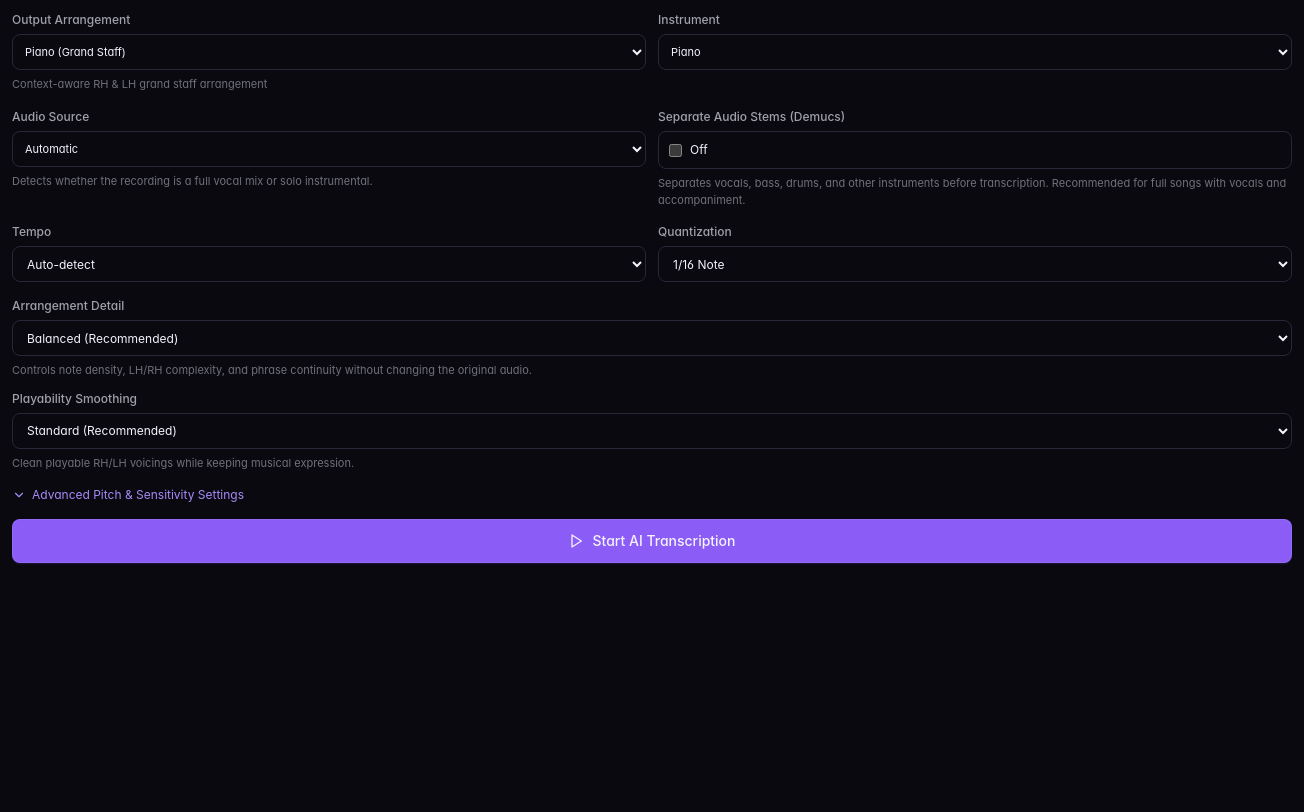
Lead Melody Vocal Isolation & Settings UI › respects explicit Solo Piano / Instrumental source and user quantization choices in Lead Melody
The width and height of the screenshot is (1304, 812).
# User manually picks eighth quantization first
Select "1/8 Note" in the dropdown labelled "Quantization". click: (975, 264)
box: [658,246,1292,282]
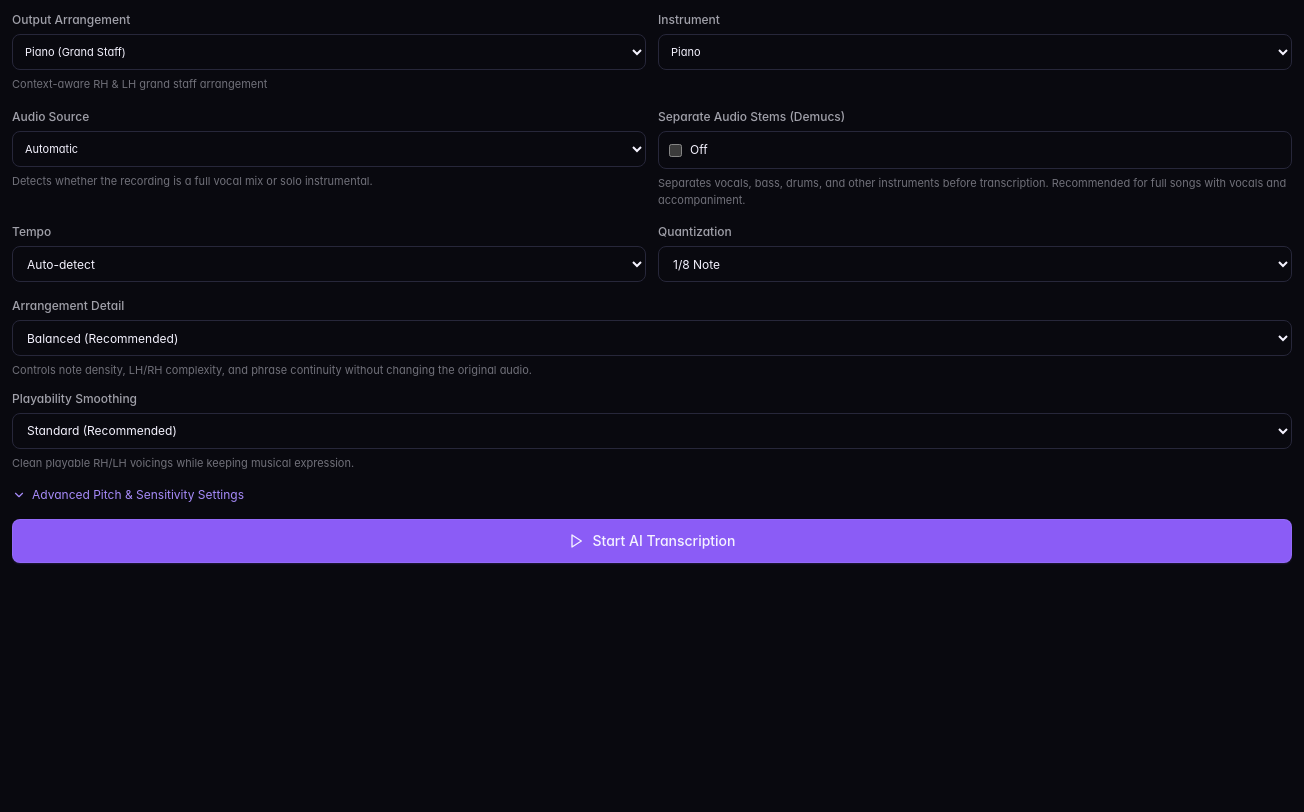
Select "Lead Melody" in the dropdown labelled "Output Arrangement". click: (329, 52)
box: [12,34,646,70]
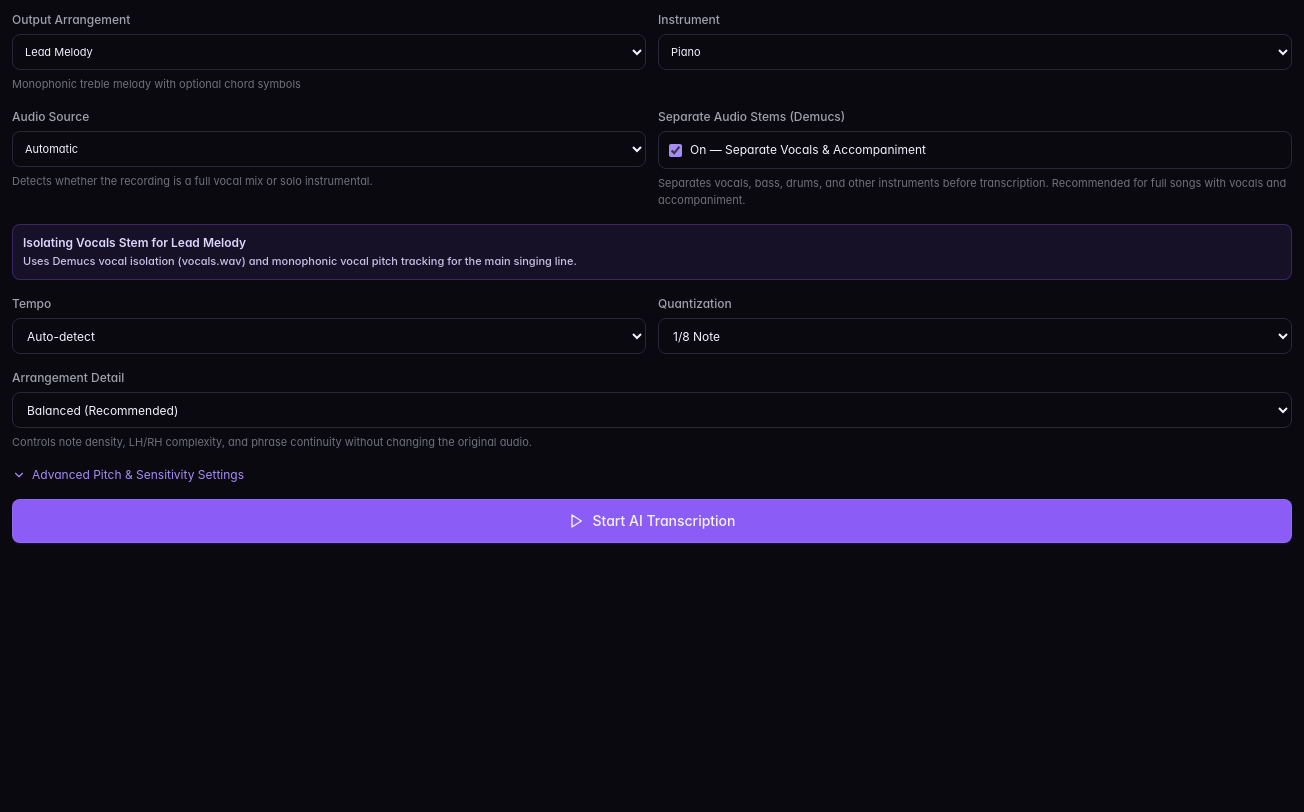
expect the checkbox labelled "Separate Audio Stems (Demucs)" is checked: met, box [669,144,682,156]
# Explicitly switch to Solo Piano / Instrumental and turn Demucs off
Select "Solo Piano / Instrumental" in the dropdown labelled "Audio Source". click: (329, 148)
box: [12,130,646,166]
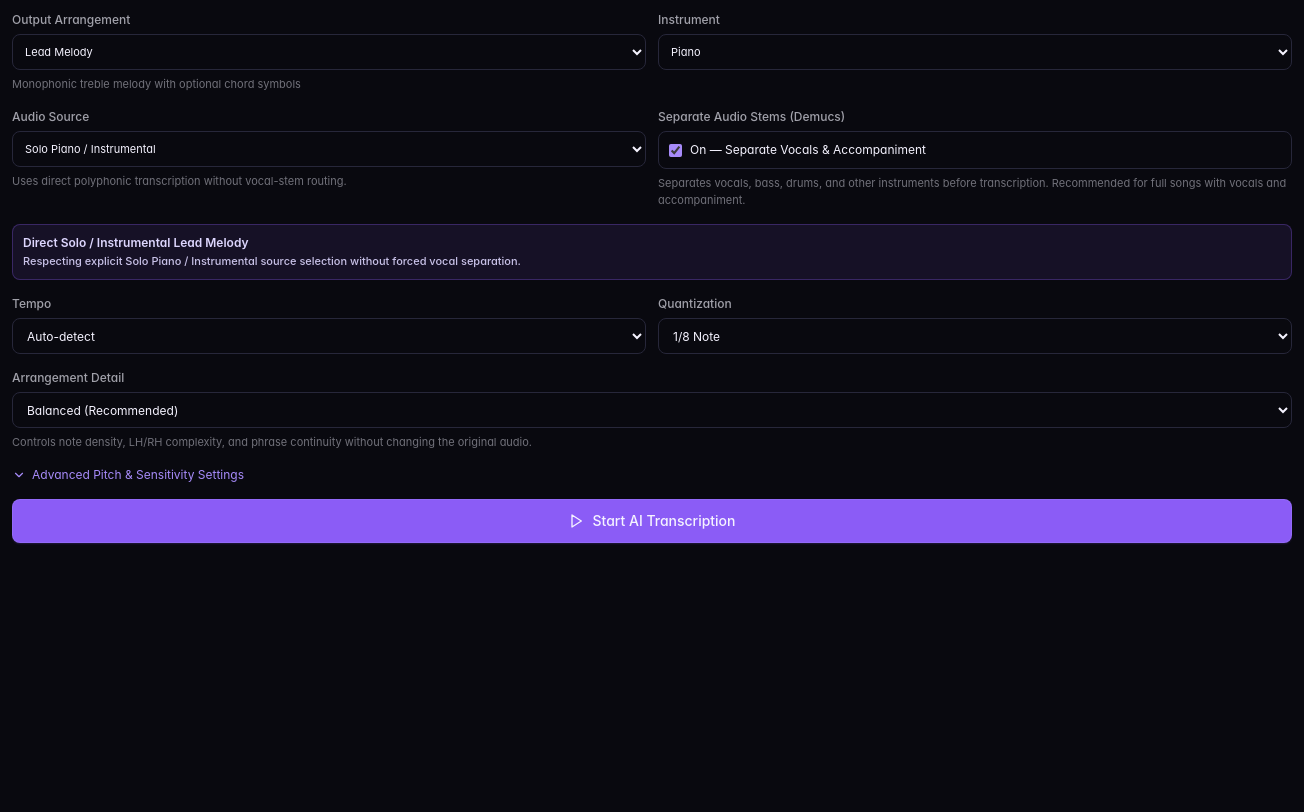
Click the checkbox labelled "Separate Audio Stems (Demucs)". click: click(676, 150)
box: [669,144,682,156]
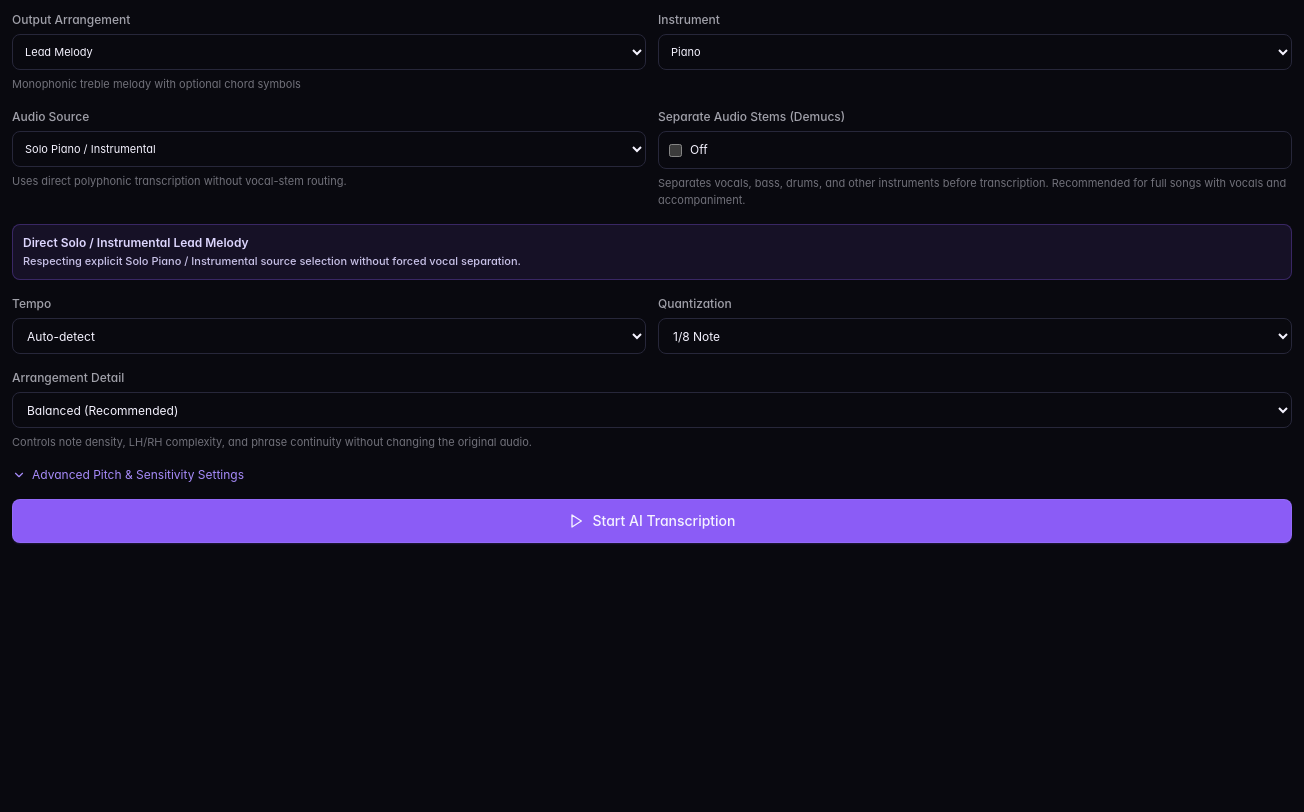
expect the checkbox labelled "Separate Audio Stems (Demucs)" is not checked: met, box [669,144,682,156]
expect the element with test id "lead-melody-vocal-status" shows "Direct Solo / Instrumental Lead Melody": met, box [23,235,249,250]
# Re-selecting Lead Melody with solo_piano must not clobber explicit solo_piano choice
Select "Lead Melody" in the dropdown labelled "Output Arrangement". click: (329, 52)
box: [12,34,646,70]
expect the checkbox labelled "Separate Audio Stems (Demucs)" is not checked: met, box [669,144,682,156]
# Switching source back to Automatic re-enables Demucs separation
Select "Automatic" in the dropdown labelled "Audio Source". click: (329, 148)
box: [12,130,646,166]
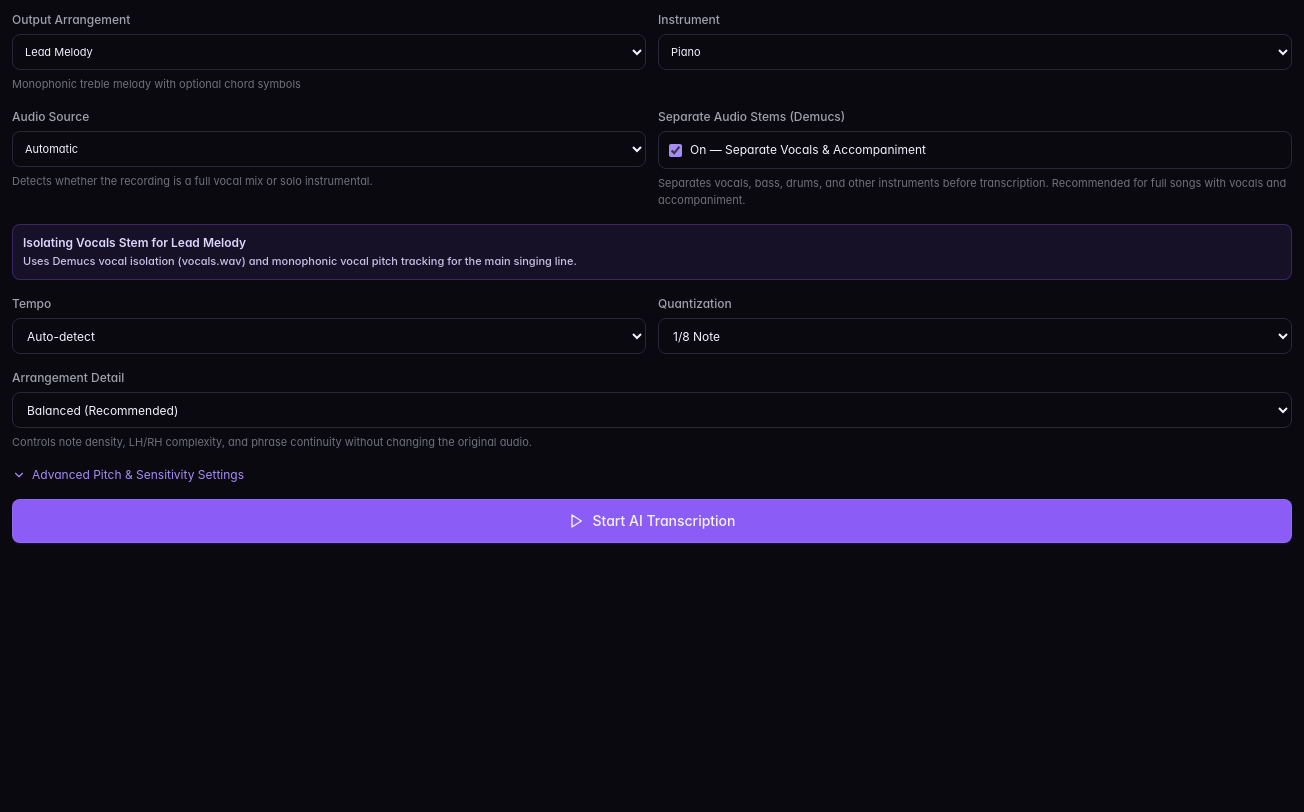
expect the checkbox labelled "Separate Audio Stems (Demucs)" is checked: met, box [669,144,682,156]
expect the element with test id "lead-melody-vocal-status" shows "Isolating Vocals Stem for Lead Melody": met, box [23,235,246,250]
